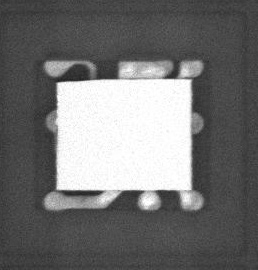DIE_BROKEN: (56, 78, 106, 84)
